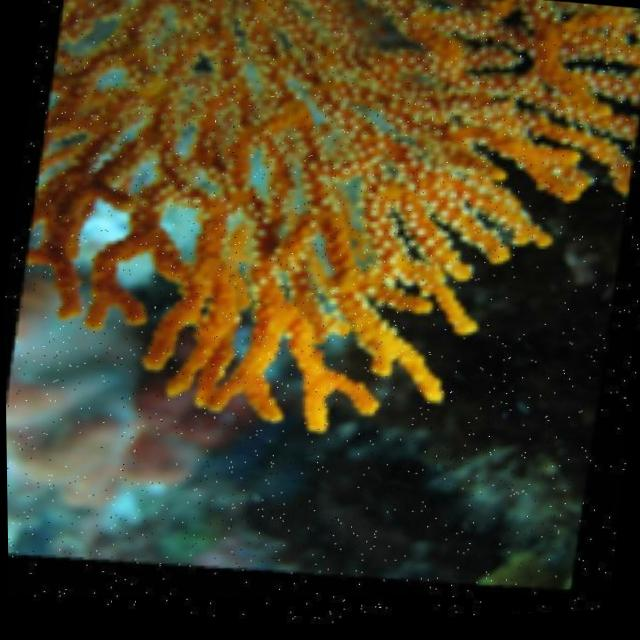Healthy Coral: (19, 0, 637, 484)
